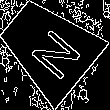N_NW: (17, 15, 80, 79)
